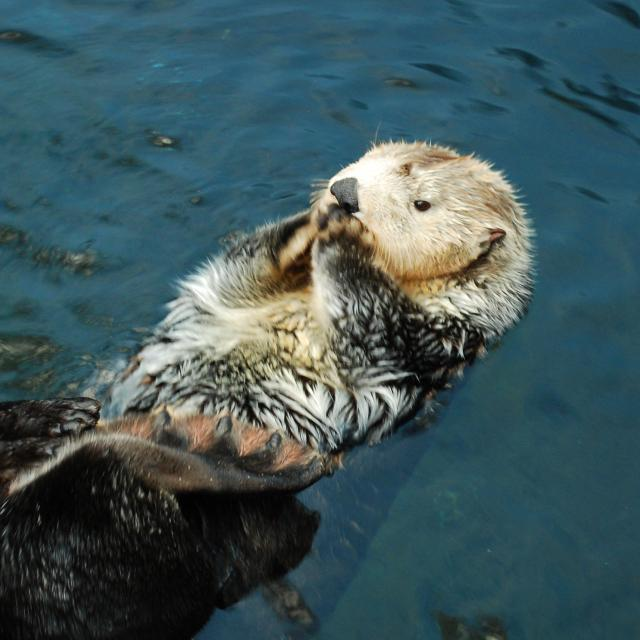otter: (125, 142, 533, 457)
